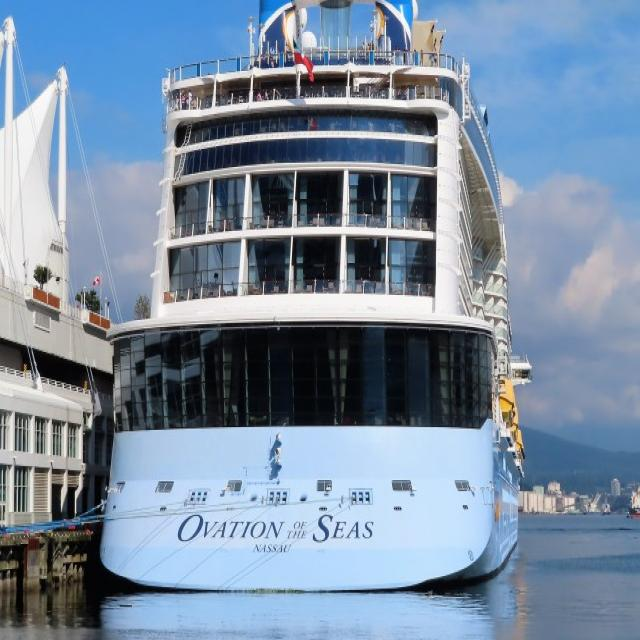cruises: (100, 1, 537, 603)
